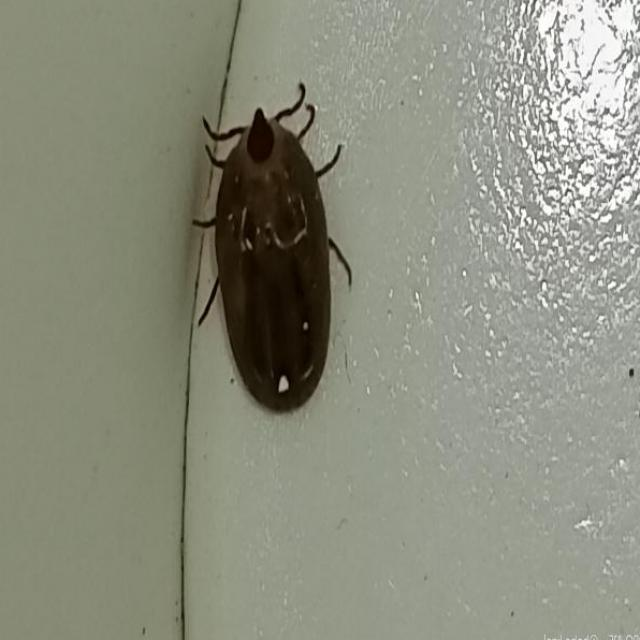Rhipicephalus Sanguineus-F-Fed: (192, 81, 352, 417)
